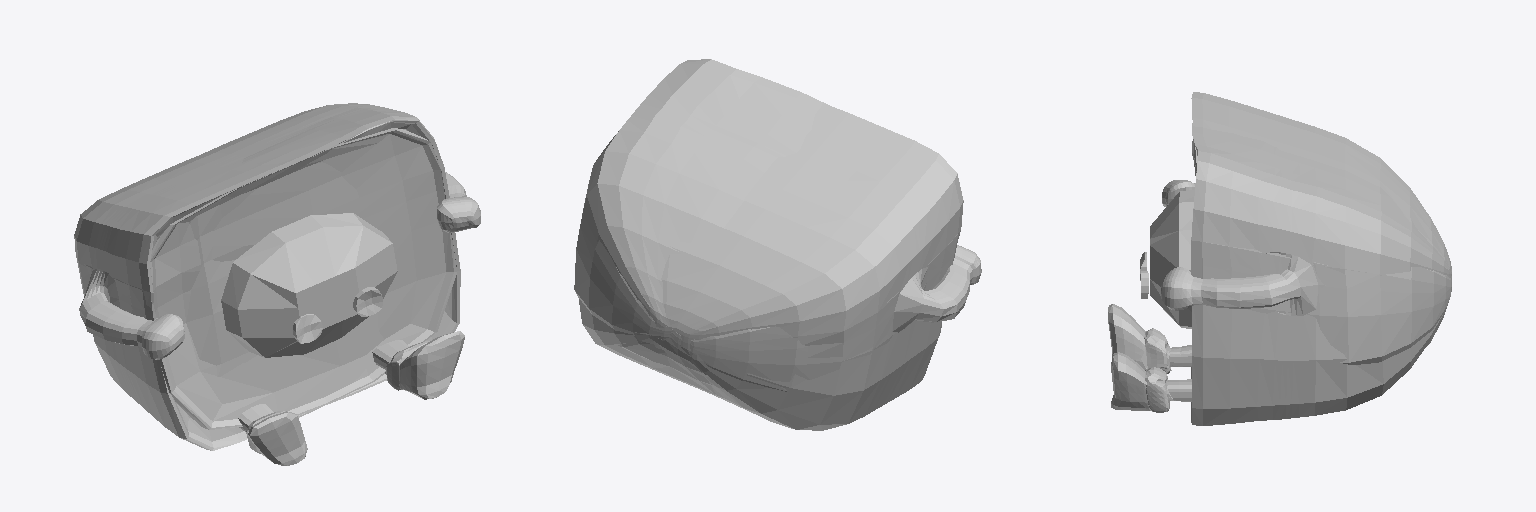
Rendered from Pal_000036.obj.
3 renders of one model, left to right at view 1: azimuth 30°, elevation 25°; view 2: azimuth 150°, elevation 25°; view 3: azimuth 270°, elevation 25°, orthographic.
Visible parts, largest first — view 1: Cuerpo_de_aguacate_3.001_Cube.002, Hueso_Cubo.003, Ojos_Cubo.002; view 2: Cuerpo_de_aguacate_3.001_Cube.002; view 3: Cuerpo_de_aguacate_3.001_Cube.002, Hueso_Cubo.003.
Part boxes in pixels (x1,y1,x2,y2): Cuerpo_de_aguacate_3.001_Cube.002: (74,103,480,465); Hueso_Cubo.003: (221,213,397,357); Ojos_Cubo.002: (293,287,382,343); Cuerpo_de_aguacate_3.001_Cube.002: (574,59,981,430); Cuerpo_de_aguacate_3.001_Cube.002: (1108,92,1451,425); Hueso_Cubo.003: (1150,190,1194,328).
Bounding box in the file's own units: 1.21 × 0.9209 × 1.01.